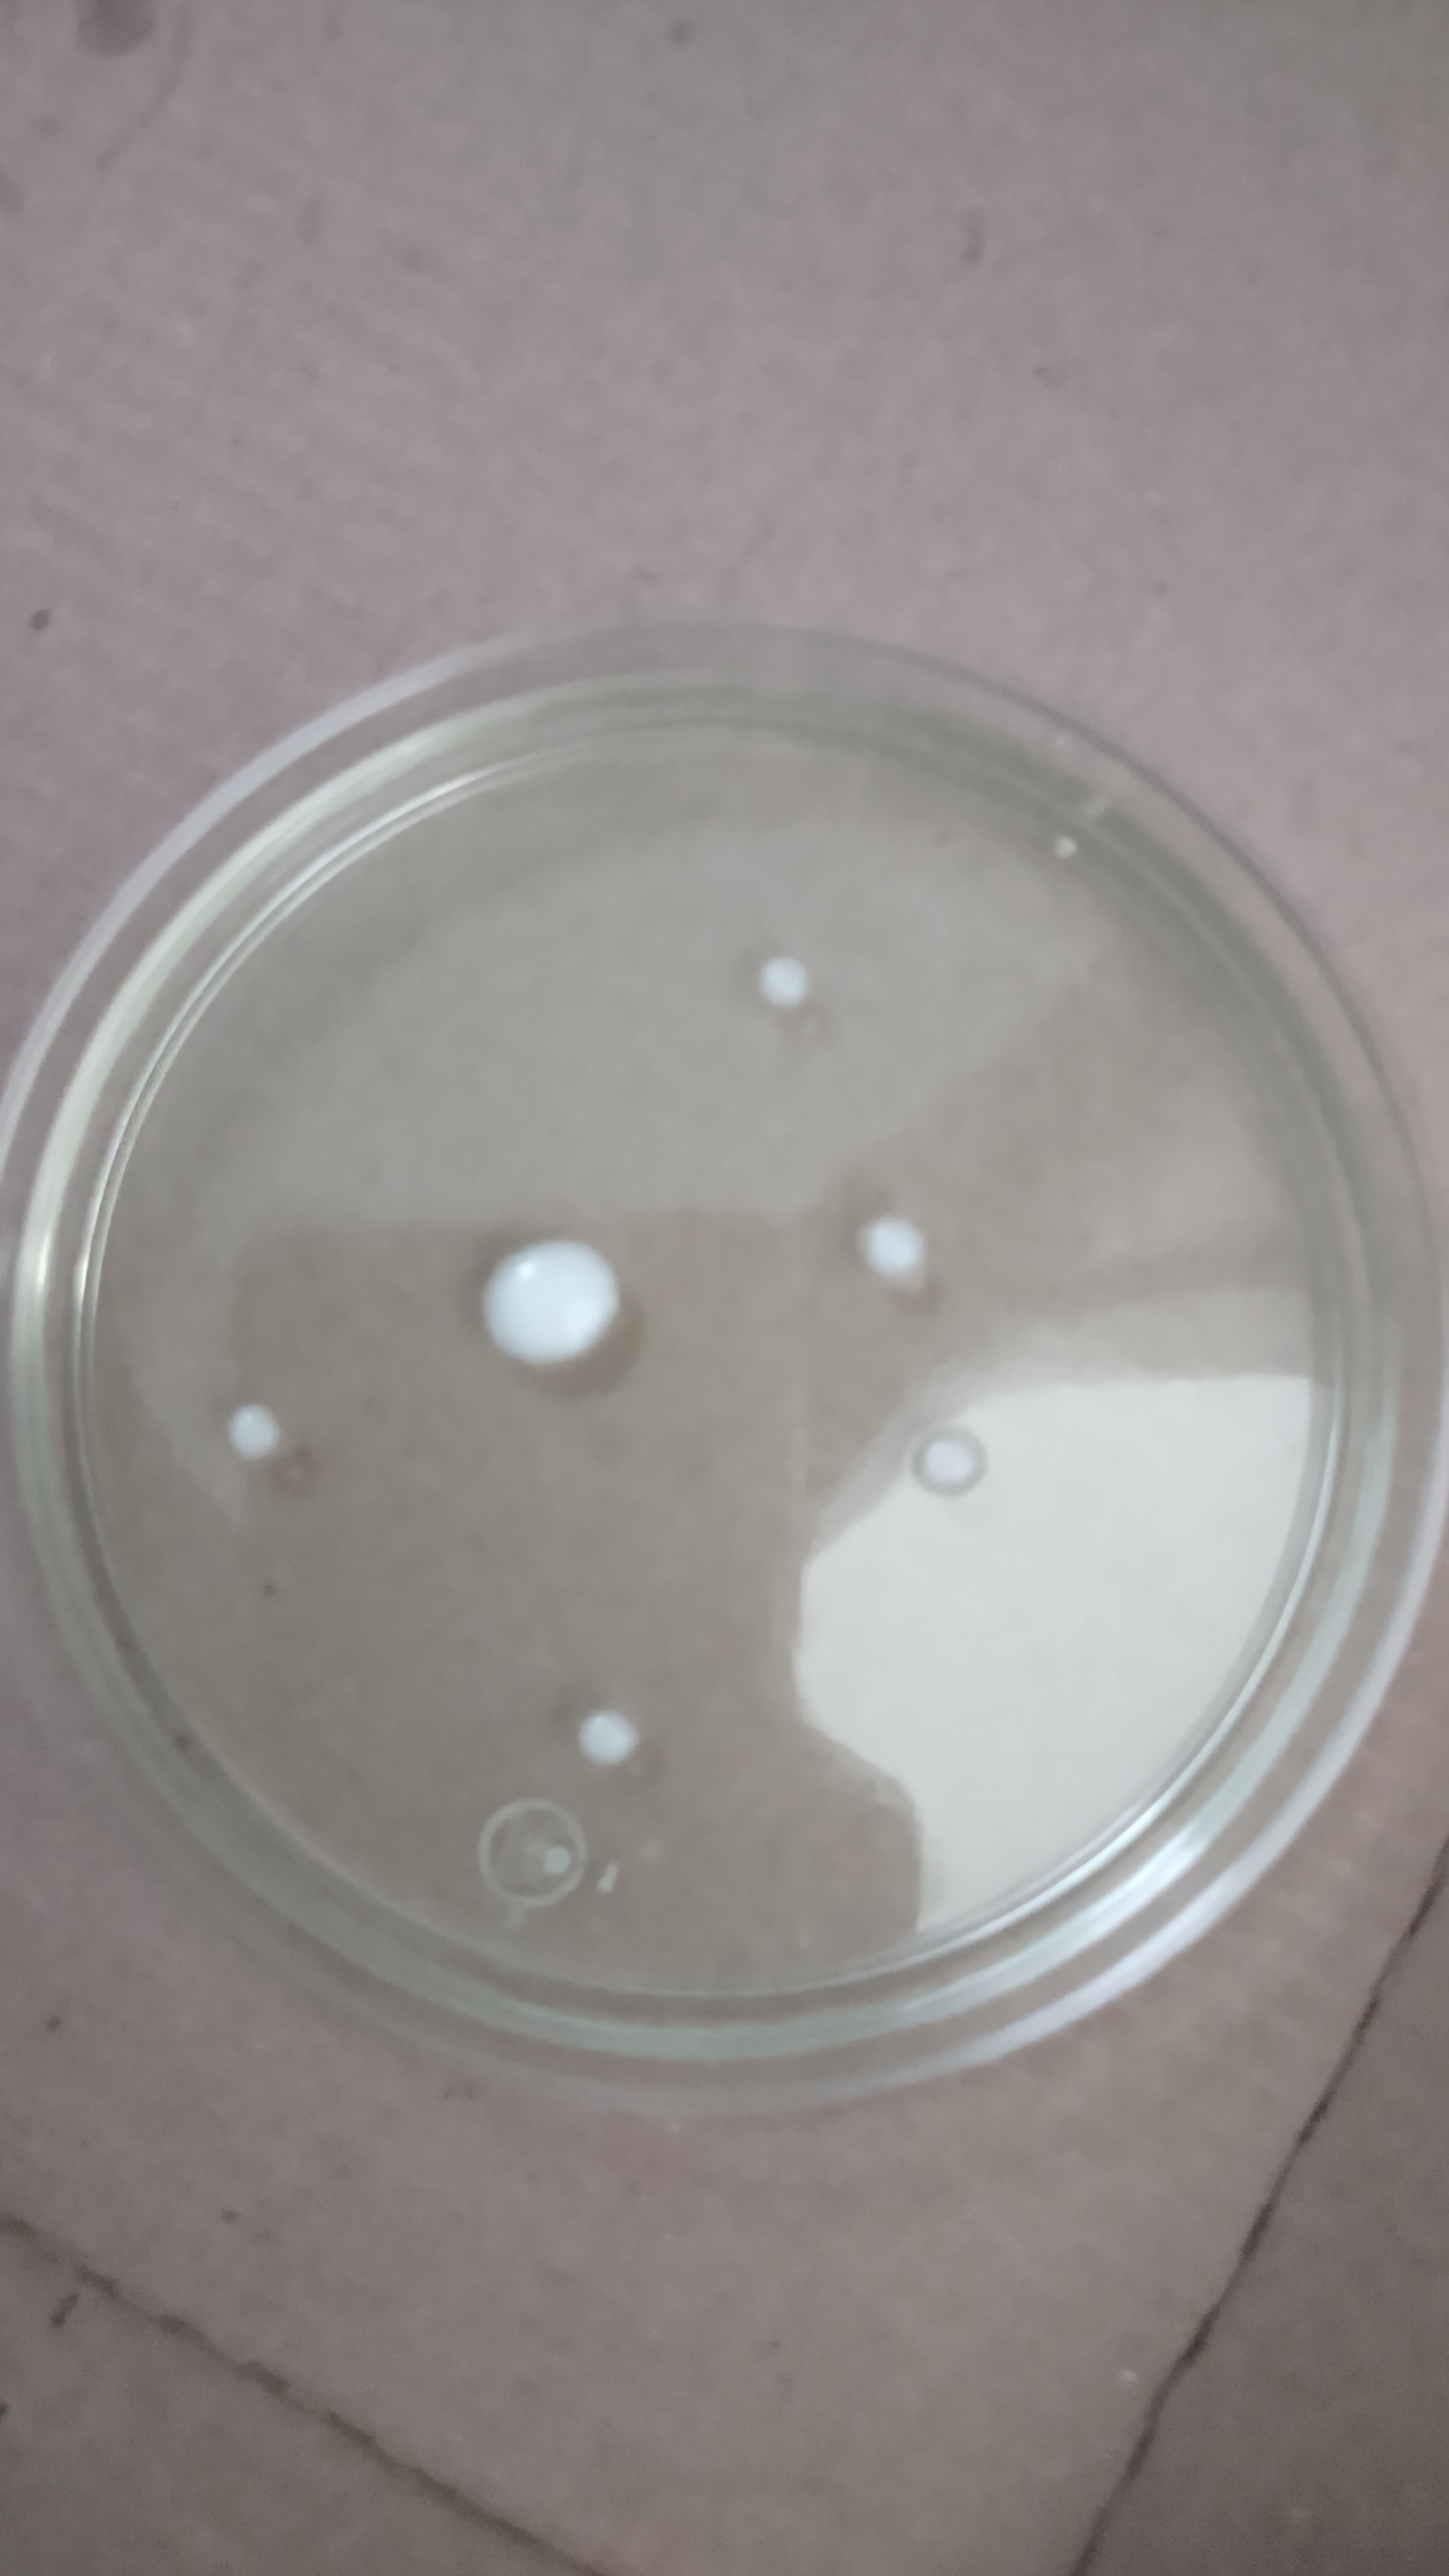Colonia: (472, 1230, 625, 1369), (842, 1200, 947, 1329), (221, 1389, 297, 1470), (754, 947, 824, 1017), (915, 1428, 989, 1493), (575, 1707, 642, 1766)
